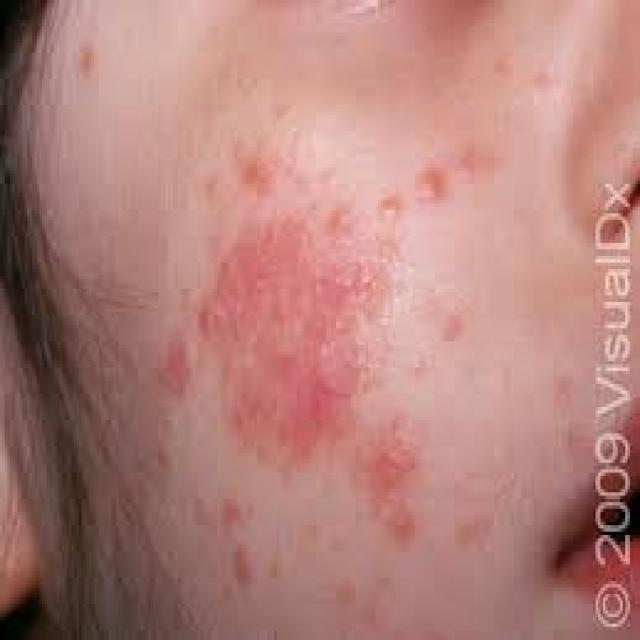Eczema: (185, 201, 437, 552)
